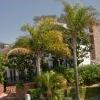Palm tree: (25, 9, 88, 93)
